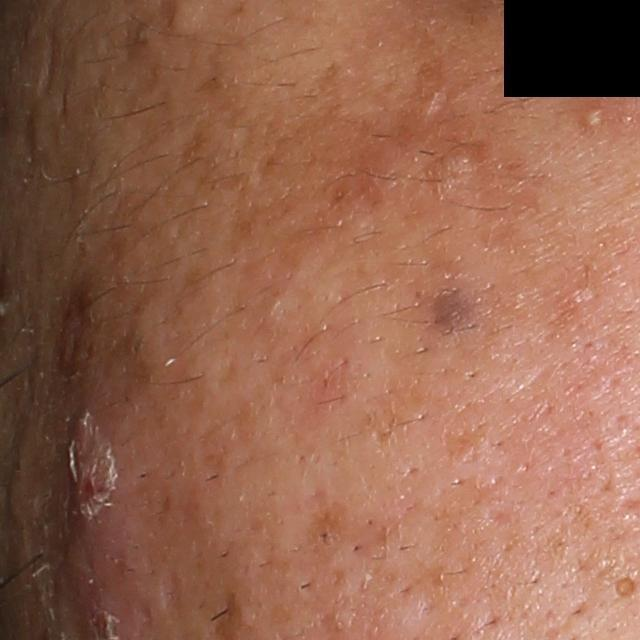atrophic_scar: (159, 571, 191, 620)
melasma: (176, 60, 508, 269)
other: (427, 283, 488, 341), (418, 145, 477, 191)
